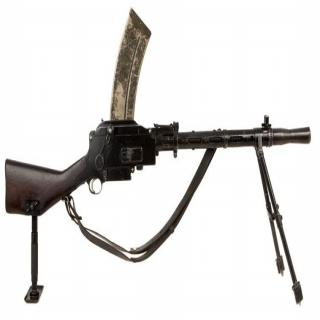gun: (14, 2, 308, 307)
